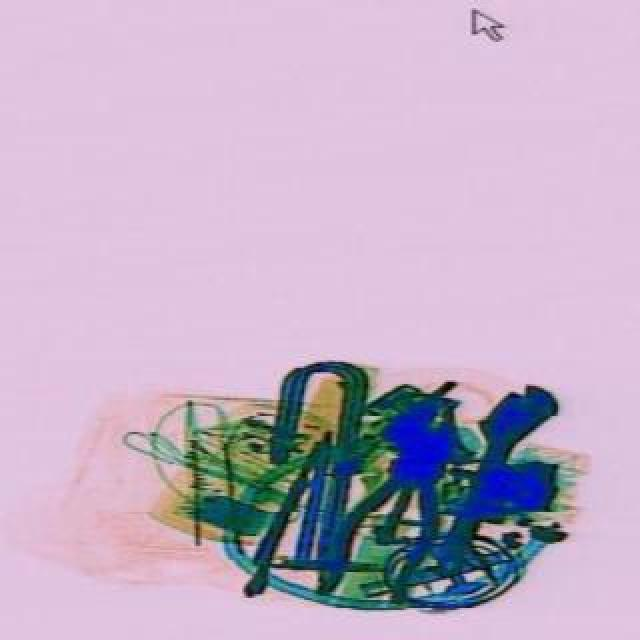scissors: (404, 370, 560, 586)
wrench: (308, 386, 482, 622)
